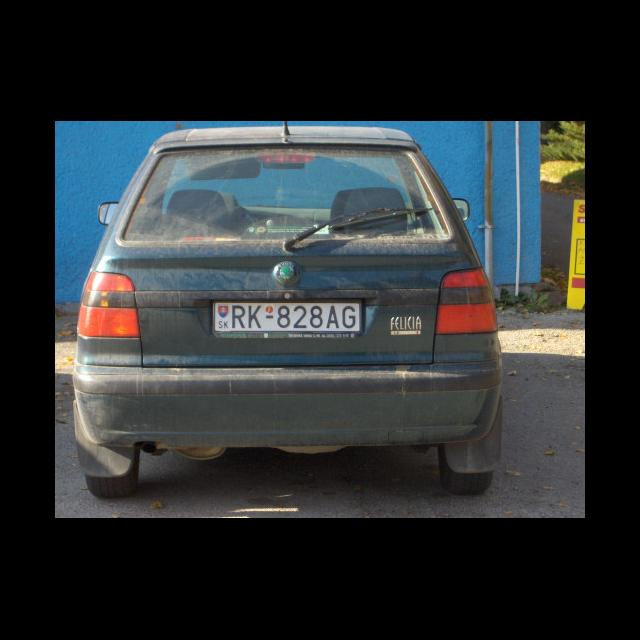Plate: (210, 298, 364, 336)
